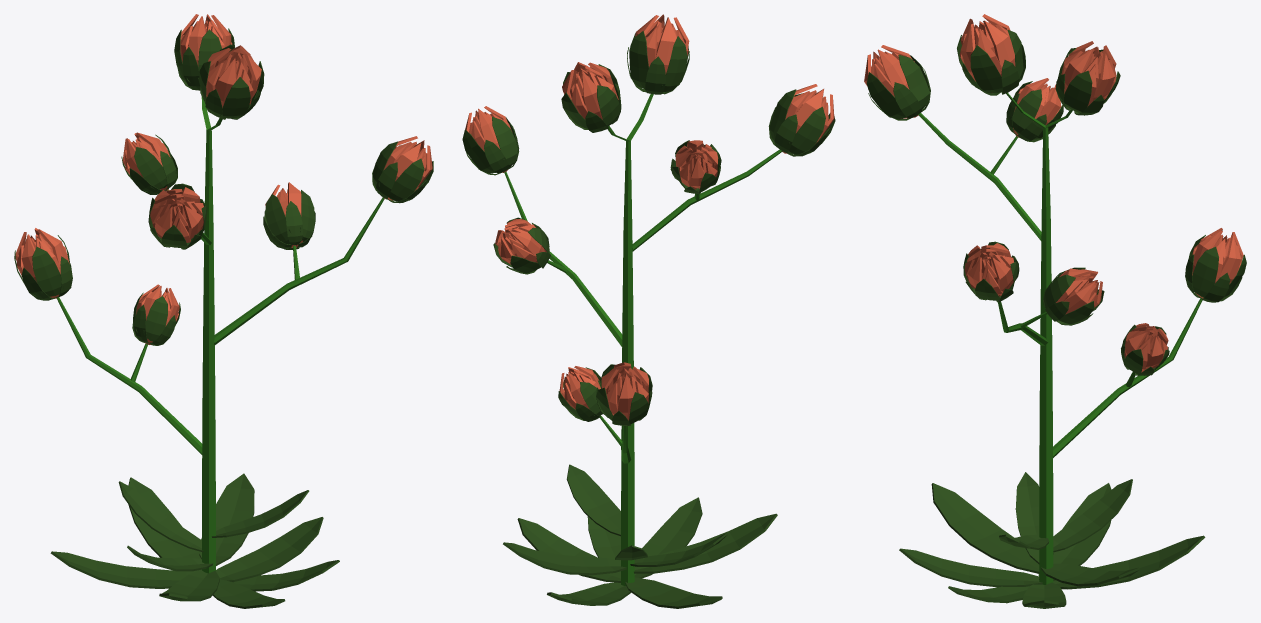
Rendered from Habichtskraut_2.fbx.
3 views of the same model, side by side, from view 1: azimuth 30°, elevation 25°; view 2: azimuth 150°, elevation 25°; view 3: azimuth 270°, elevation 25° (orthographic). The views are drawn at different scales.
Visible parts, largest first — view 1: Habichtskraut_2; view 2: Habichtskraut_2; view 3: Habichtskraut_2.
Part boxes in pixels (x1=…): Habichtskraut_2: x1=14, y1=14, x2=433, y2=608; Habichtskraut_2: x1=462, y1=14, x2=835, y2=608; Habichtskraut_2: x1=864, y1=14, x2=1246, y2=608.
Bounding box in the file's own units: 98.76 × 163 × 99.68.
